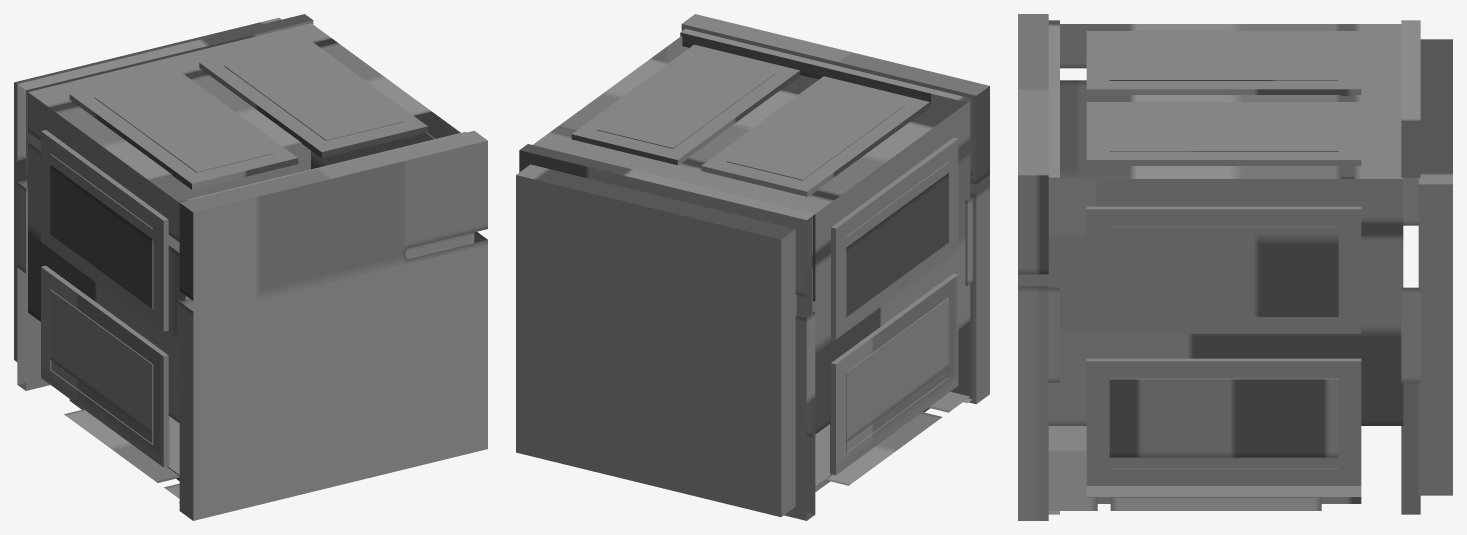
The picture shows the model from 3 angles, left to right: view 1: azimuth 30°, elevation 25°; view 2: azimuth 150°, elevation 25°; view 3: azimuth 270°, elevation 25°; orthographic projection. The views are drawn at different scales.
Bounding box in the file's own units: 1 × 1 × 1.14.
